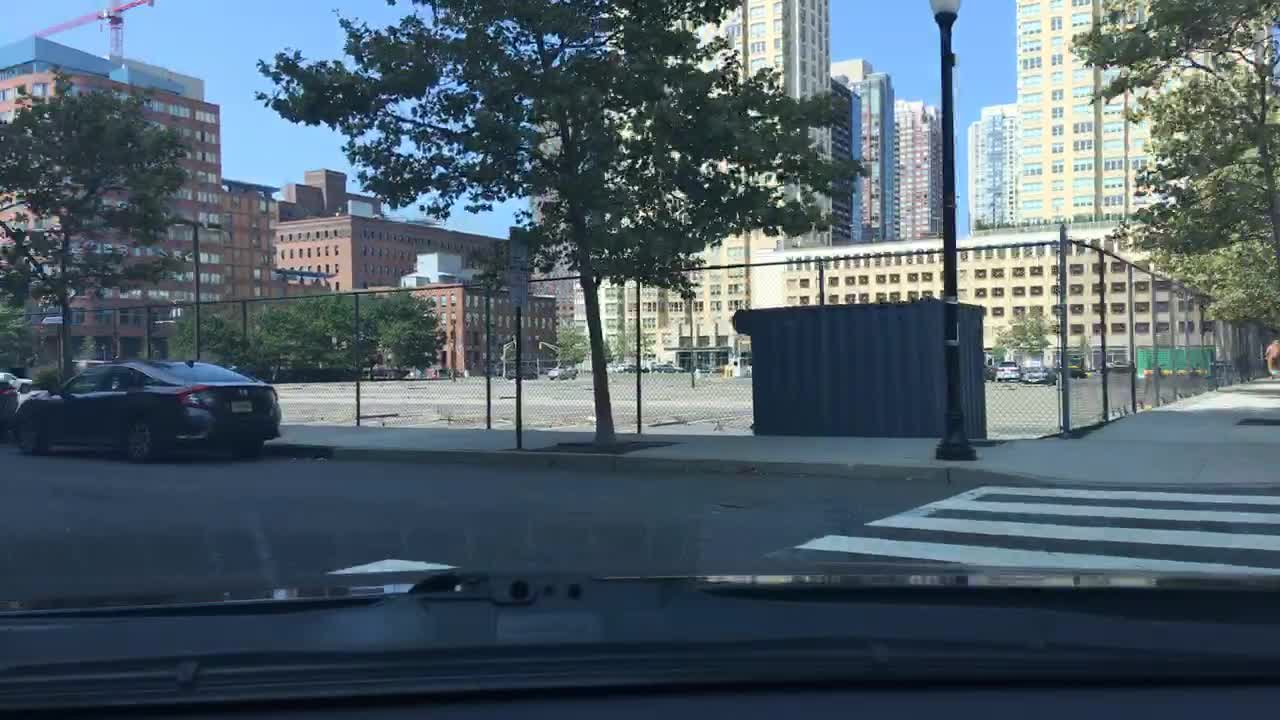car: (15, 355, 280, 459), (0, 380, 17, 449), (1098, 357, 1134, 374), (0, 370, 34, 388), (993, 360, 1022, 381), (1022, 366, 1054, 385), (546, 364, 581, 378), (506, 364, 537, 379), (617, 360, 648, 374), (651, 358, 679, 373), (1058, 365, 1087, 379), (602, 362, 620, 375), (694, 364, 709, 373), (712, 365, 727, 373)
rider: (1264, 337, 1279, 379)
